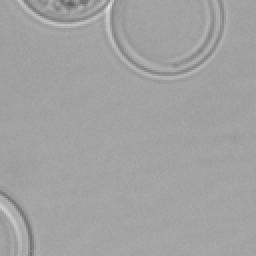picoshell: (104, 0, 226, 80), (16, 0, 108, 26), (0, 190, 32, 254)
